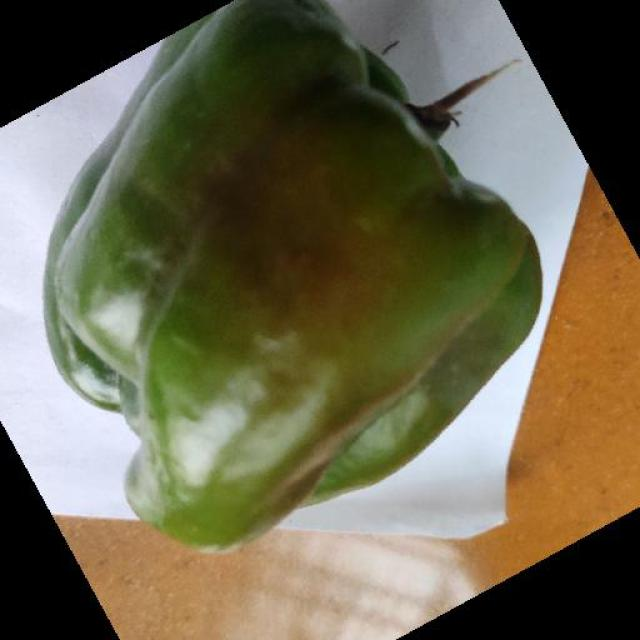Stale_Capsicum: (78, 13, 533, 504)
